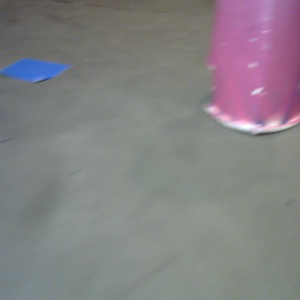right: (201, 1, 300, 135)
